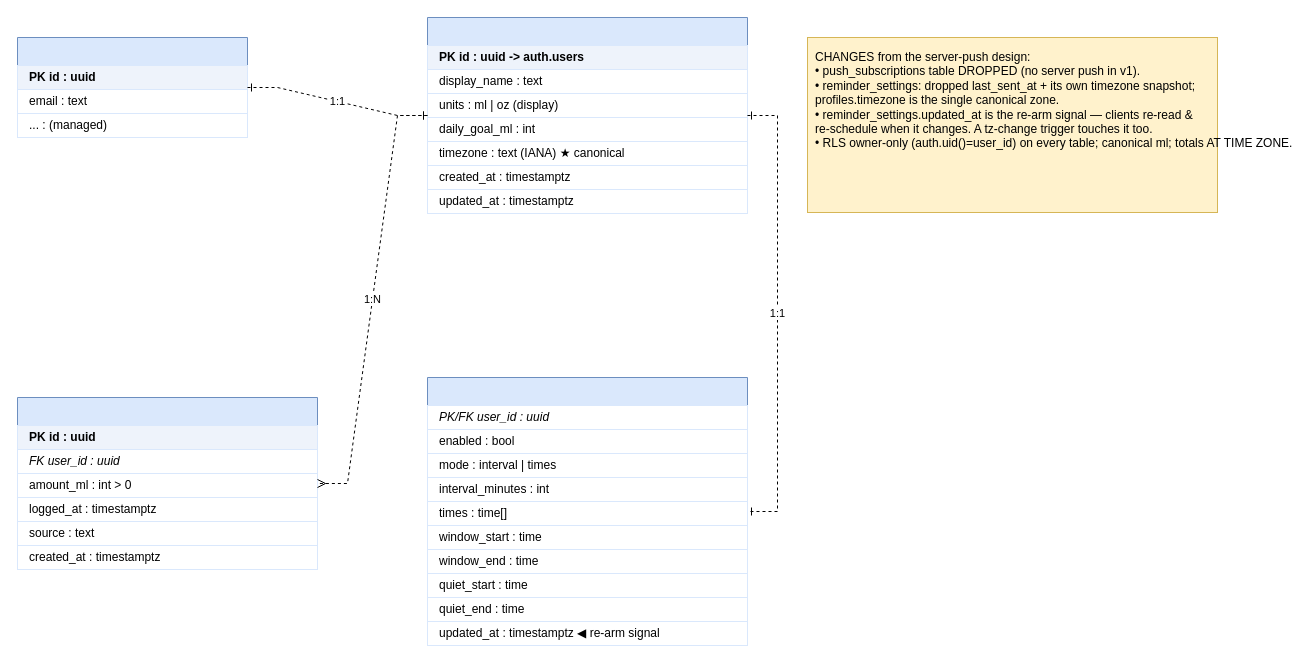
This 1310x663 diagram has some shape labels left out. The box of each missing label's shape, as (x1, y1, x2, y2) in pixels:
auth.users: (16, 36, 248, 138)
intake_entries: (16, 396, 318, 570)
profiles: (426, 16, 748, 214)
reminder_settings: (426, 376, 748, 646)
